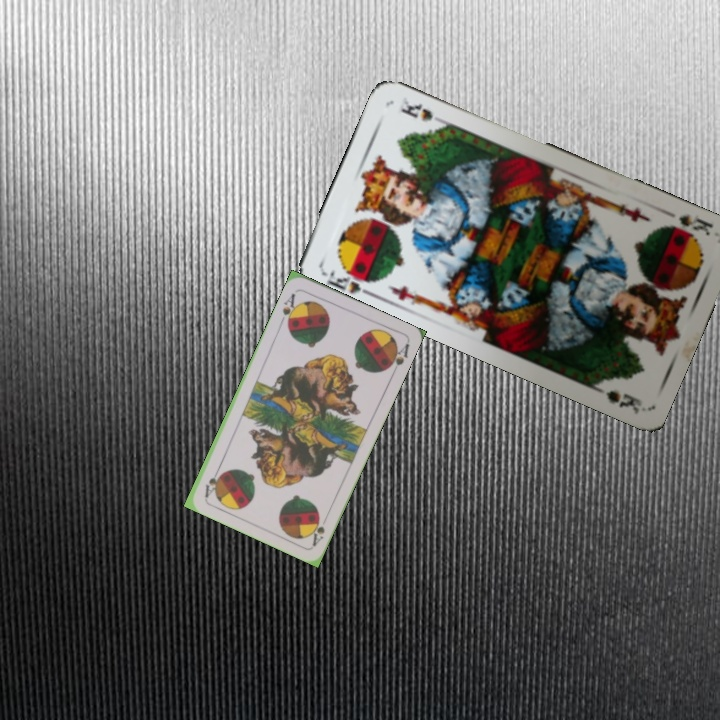SA: (276, 289, 301, 329), (306, 510, 327, 548)
SK: (323, 260, 380, 299), (674, 210, 716, 239)
